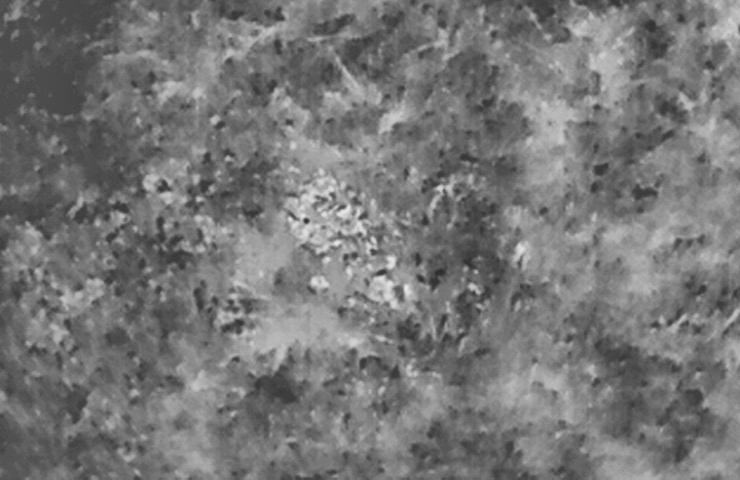landmines: (280, 164, 397, 264)
